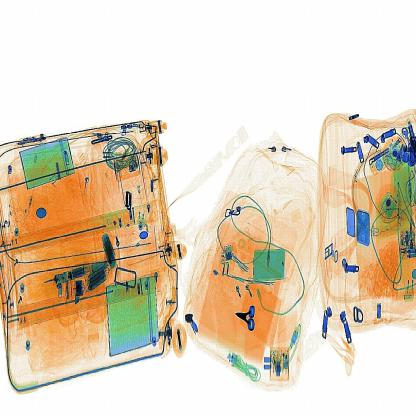gun: (230, 304, 263, 336)
